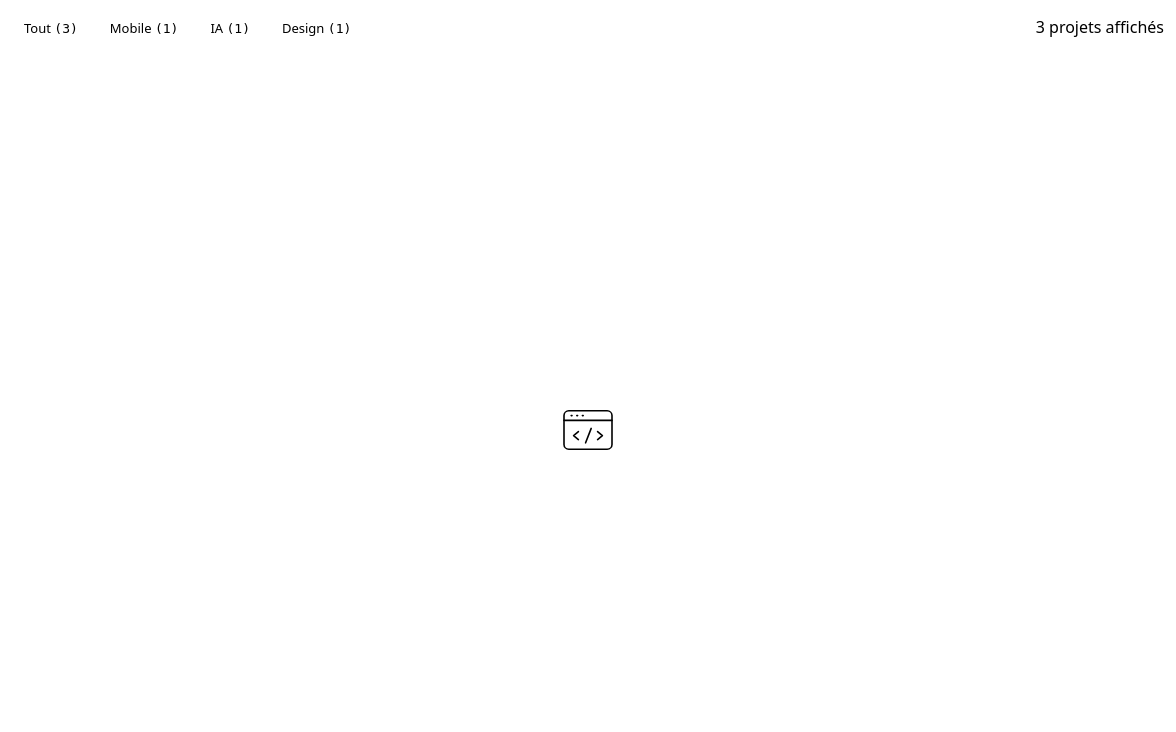
it: ProjectFilterBar › clic filtre réduit la grille et le compteur aria-live devient singulier
The image size is (1176, 732).
Click the button "Mobile (1)". click: (144, 29)
box: [98, 12, 190, 46]
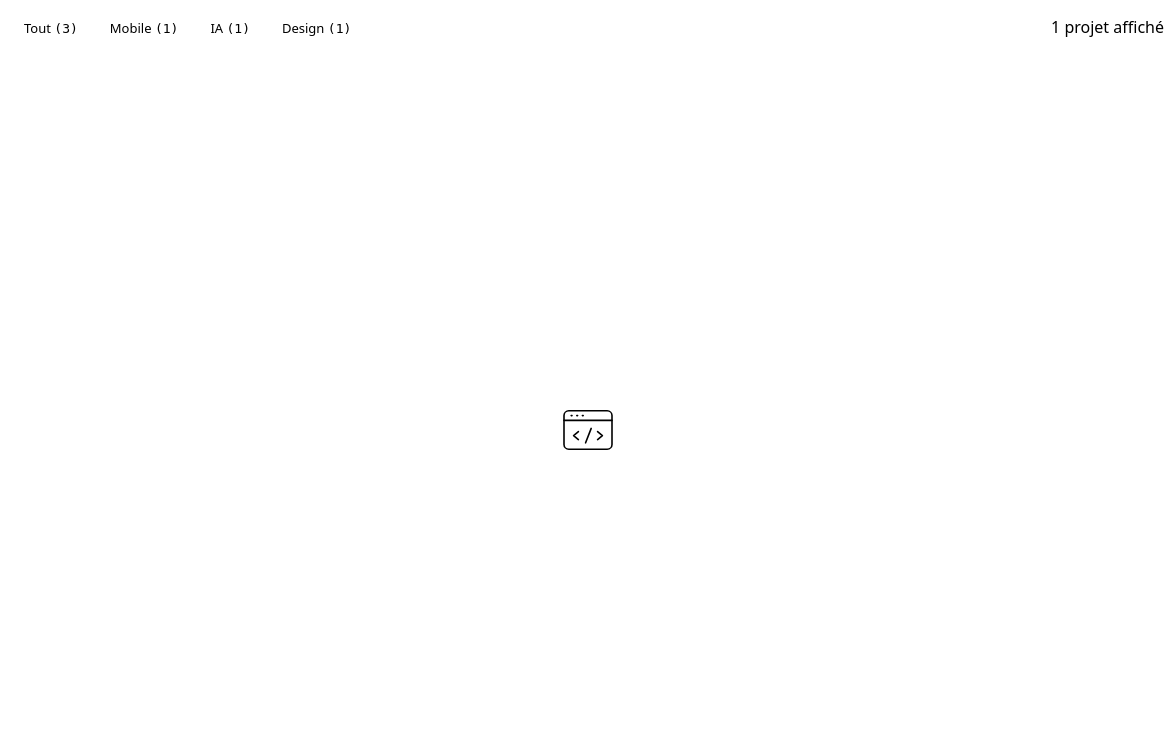
Result: the text "1 projet affiché" is shown at [1051, 15, 1164, 39]
Click the button "Tout (3)". click: (51, 29)
box: [12, 12, 90, 46]
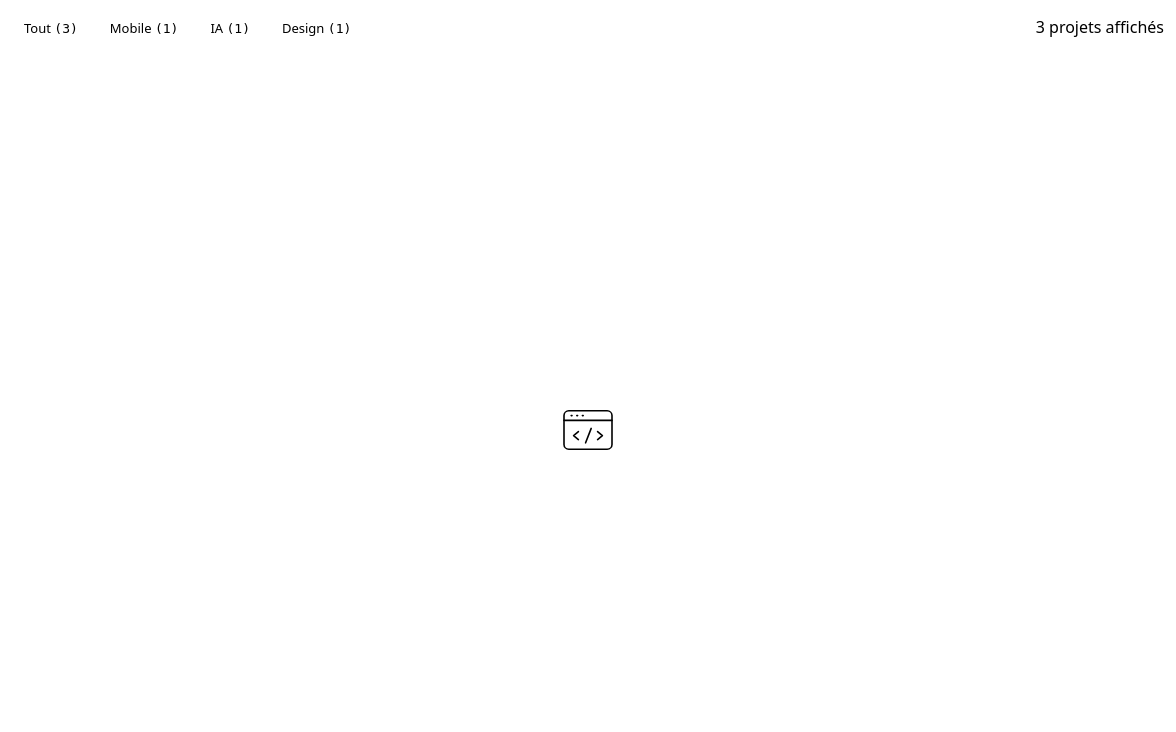
Result: the text "3 projets affichés" is shown at [1036, 15, 1164, 39]
